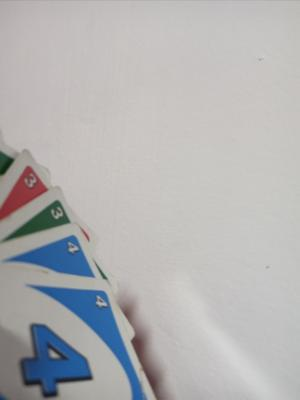black: (24, 283, 125, 391)
